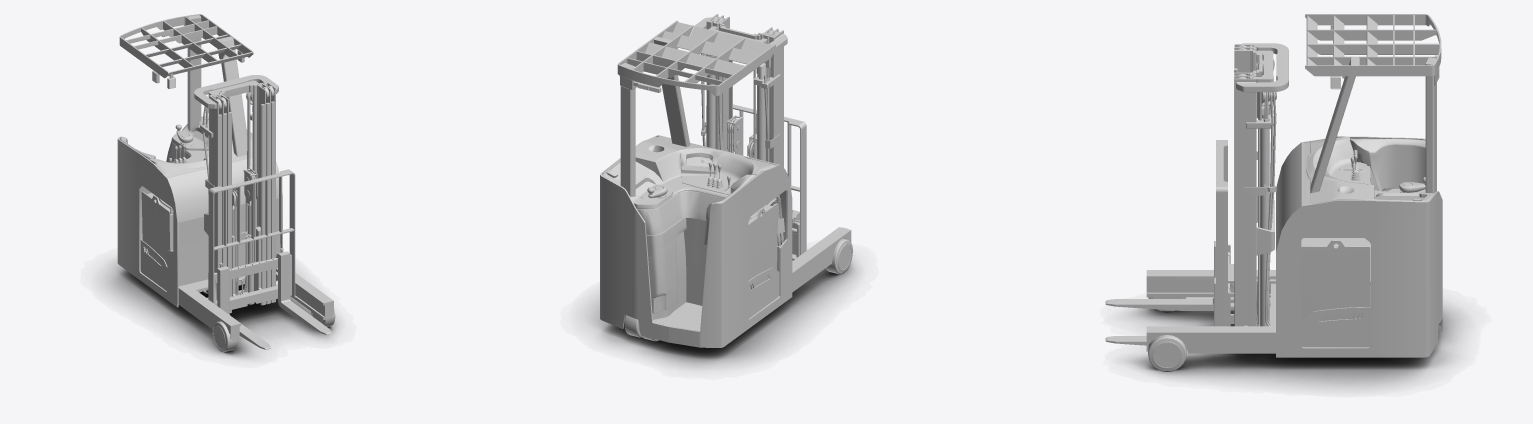
File: Reachlift.gltf
The picture shows the model from 3 angles, left to right: view 1: azimuth 30°, elevation 25°; view 2: azimuth 150°, elevation 25°; view 3: azimuth 270°, elevation 25°; orthographic projection. The views are drawn at different scales.
Visible parts, largest first — view 1: Body, Must4, Shadow, Must3, Mast-1, Mast-2, Hose_3_4, Hose_2_1, Tire_F; view 2: Body, Shadow, Mast-1, Must4, Must3, Hose_2_1, Mast-2, Tire_F; view 3: Body, Shadow, Mast-1, Must4, Hose_2_1, Tire_F, Mast-2, Must3.
Part boxes in pixels (bbox=[...]): Body: bbox=[117, 14, 333, 341]; Must4: bbox=[208, 169, 331, 349]; Shadow: bbox=[103, 260, 338, 358]; Must3: bbox=[217, 83, 265, 313]; Mast-1: bbox=[194, 75, 278, 302]; Mast-2: bbox=[205, 80, 270, 304]; Hose_3_4: bbox=[233, 171, 255, 294]; Hose_2_1: bbox=[202, 92, 253, 293]; Tire_F: bbox=[212, 309, 335, 351]; Body: bbox=[600, 20, 851, 347]; Shadow: bbox=[585, 259, 857, 367]; Mast-1: bbox=[694, 14, 787, 167]; Must4: bbox=[706, 104, 848, 260]; Must3: bbox=[717, 16, 772, 158]; Hose_2_1: bbox=[701, 53, 768, 161]; Mast-2: bbox=[705, 15, 778, 161]; Tire_F: bbox=[825, 238, 852, 274]; Body: bbox=[1146, 14, 1442, 357]; Shadow: bbox=[1126, 298, 1463, 387]; Mast-1: bbox=[1234, 43, 1288, 326]; Must4: bbox=[1105, 140, 1234, 345]; Hose_2_1: bbox=[1256, 59, 1276, 326]; Tire_F: bbox=[1148, 297, 1186, 371]; Mast-2: bbox=[1234, 45, 1276, 326]; Must3: bbox=[1234, 48, 1262, 325].
Size of the model in its own units: 2.6 by 2.48 by 3.82.
3 materials, 1 textured.
